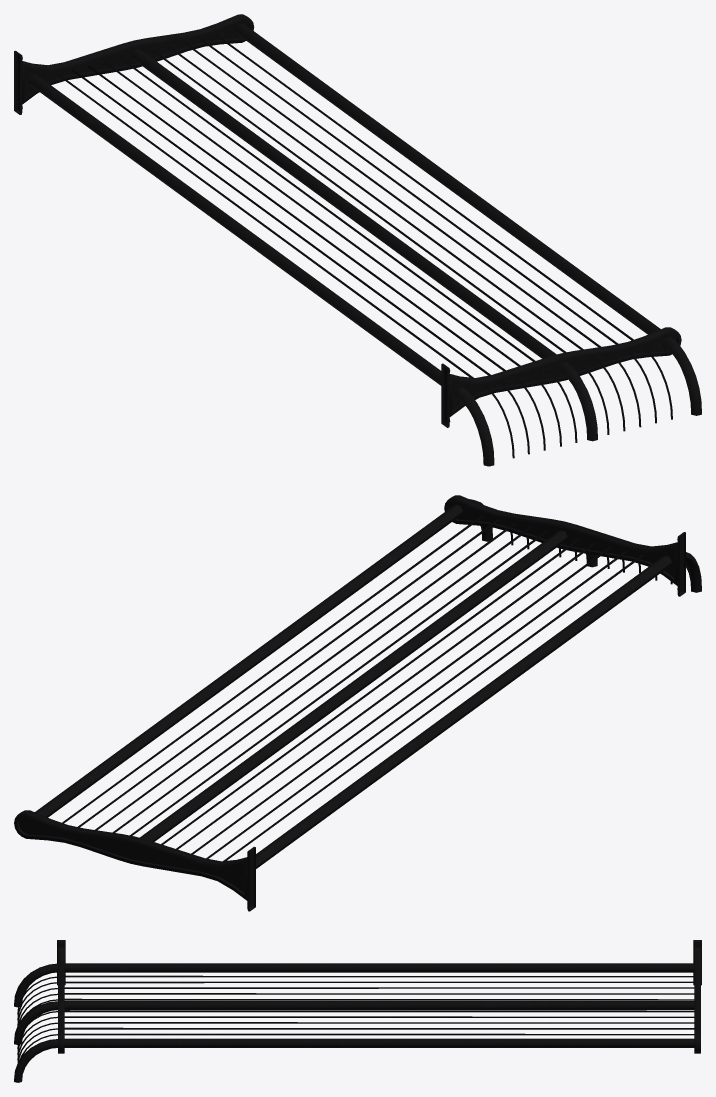
The model's file is cP_Fence03_StraightCornerReverse.dae.
3 renders of one model, top to bottom at view 1: azimuth 30°, elevation 25°; view 2: azimuth 150°, elevation 25°; view 3: azimuth 270°, elevation 25°, orthographic. The views are drawn at different scales.
Parts seen in each view (by area): view 1: cP_Fence03_StraightCornerReverse.001; view 2: cP_Fence03_StraightCornerReverse.001; view 3: cP_Fence03_StraightCornerReverse.001.
Part boxes in pixels (x1,y1,x2,y2): cP_Fence03_StraightCornerReverse.001: [14, 14, 701, 466]; cP_Fence03_StraightCornerReverse.001: [14, 495, 701, 911]; cP_Fence03_StraightCornerReverse.001: [14, 940, 701, 1082].
Size of the model in its own units: 1.19 by 4.05 by 0.3888.
